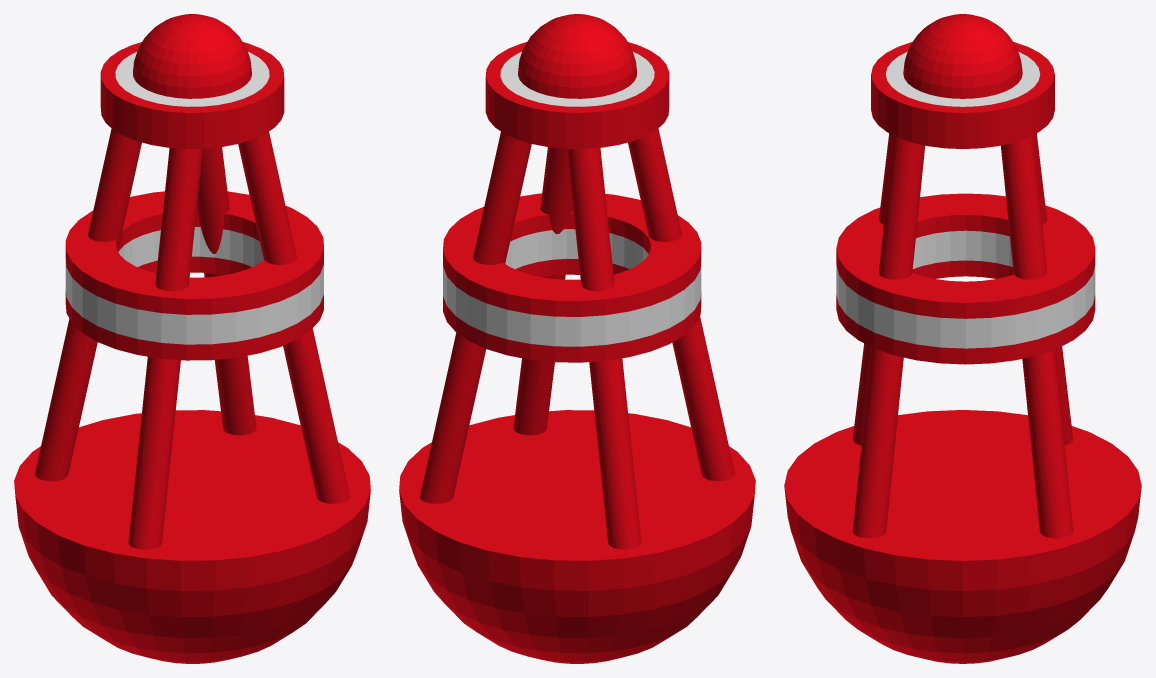
The model's file is Buoy.fbx.
3 renders of one model, left to right at view 1: azimuth 30°, elevation 25°; view 2: azimuth 150°, elevation 25°; view 3: azimuth 270°, elevation 25°, orthographic.
Parts seen in each view (by area): view 1: Buoy base, Support pillars, Ring insert number here, Base light, Light; view 2: Buoy base, Support pillars, Ring insert number here, Base light, Light; view 3: Buoy base, Ring insert number here, Support pillars, Base light, Light.
Part boxes in pixels (left/top/right/bottom): Buoy base: left=14, top=410, right=370, bottom=663; Support pillars: left=35, top=128, right=349, bottom=549; Ring insert number here: left=65, top=191, right=323, bottom=360; Base light: left=100, top=42, right=284, bottom=148; Light: left=133, top=14, right=251, bottom=98; Buoy base: left=399, top=410, right=755, bottom=663; Support pillars: left=420, top=128, right=734, bottom=549; Ring insert number here: left=443, top=193, right=701, bottom=362; Base light: left=485, top=42, right=669, bottom=148; Light: left=518, top=14, right=636, bottom=98; Buoy base: left=784, top=410, right=1141, bottom=663; Ring insert number here: left=836, top=193, right=1095, bottom=364; Support pillars: left=852, top=133, right=1073, bottom=538; Base light: left=871, top=42, right=1054, bottom=148; Light: left=903, top=14, right=1022, bottom=98.
Bounding box in the file's own units: 622 × 1206 × 622.
